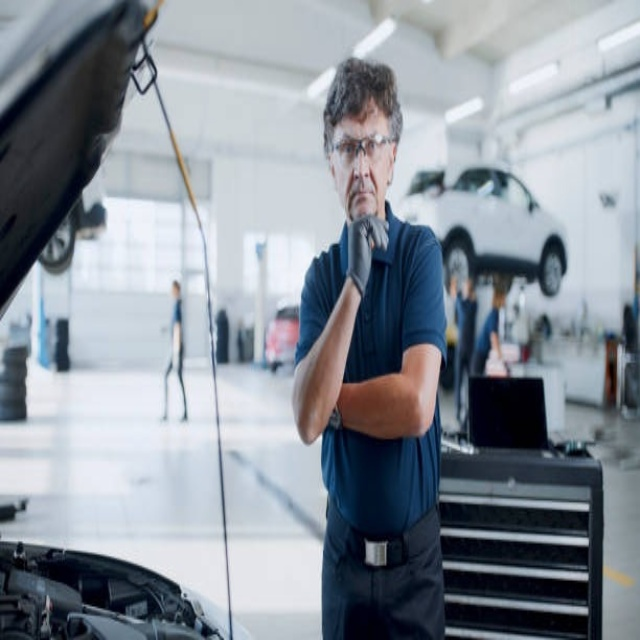Gafas: (332, 134, 396, 166)
Guantes: (346, 214, 389, 300)
Sin_mascara: (347, 179, 377, 206)
